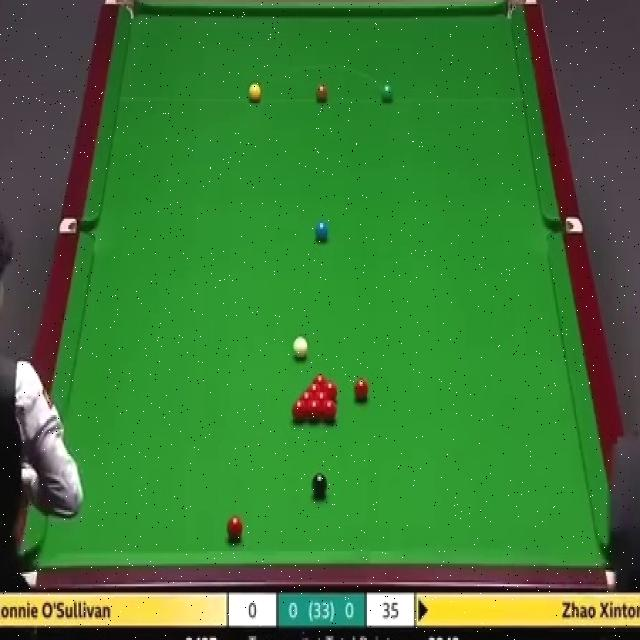black-ball: (310, 470, 328, 497)
blue-ball: (313, 221, 330, 243)
brown-ball: (315, 82, 328, 102)
green-ball: (381, 83, 394, 102)
red-ball: (226, 514, 243, 540), (352, 379, 370, 403), (322, 400, 337, 422), (292, 400, 308, 420), (320, 381, 338, 398), (308, 401, 321, 424), (298, 388, 315, 402), (313, 373, 328, 386), (306, 382, 323, 393), (315, 389, 329, 402)
white-ball: (291, 335, 310, 360)
yellow-ball: (248, 82, 262, 102)
